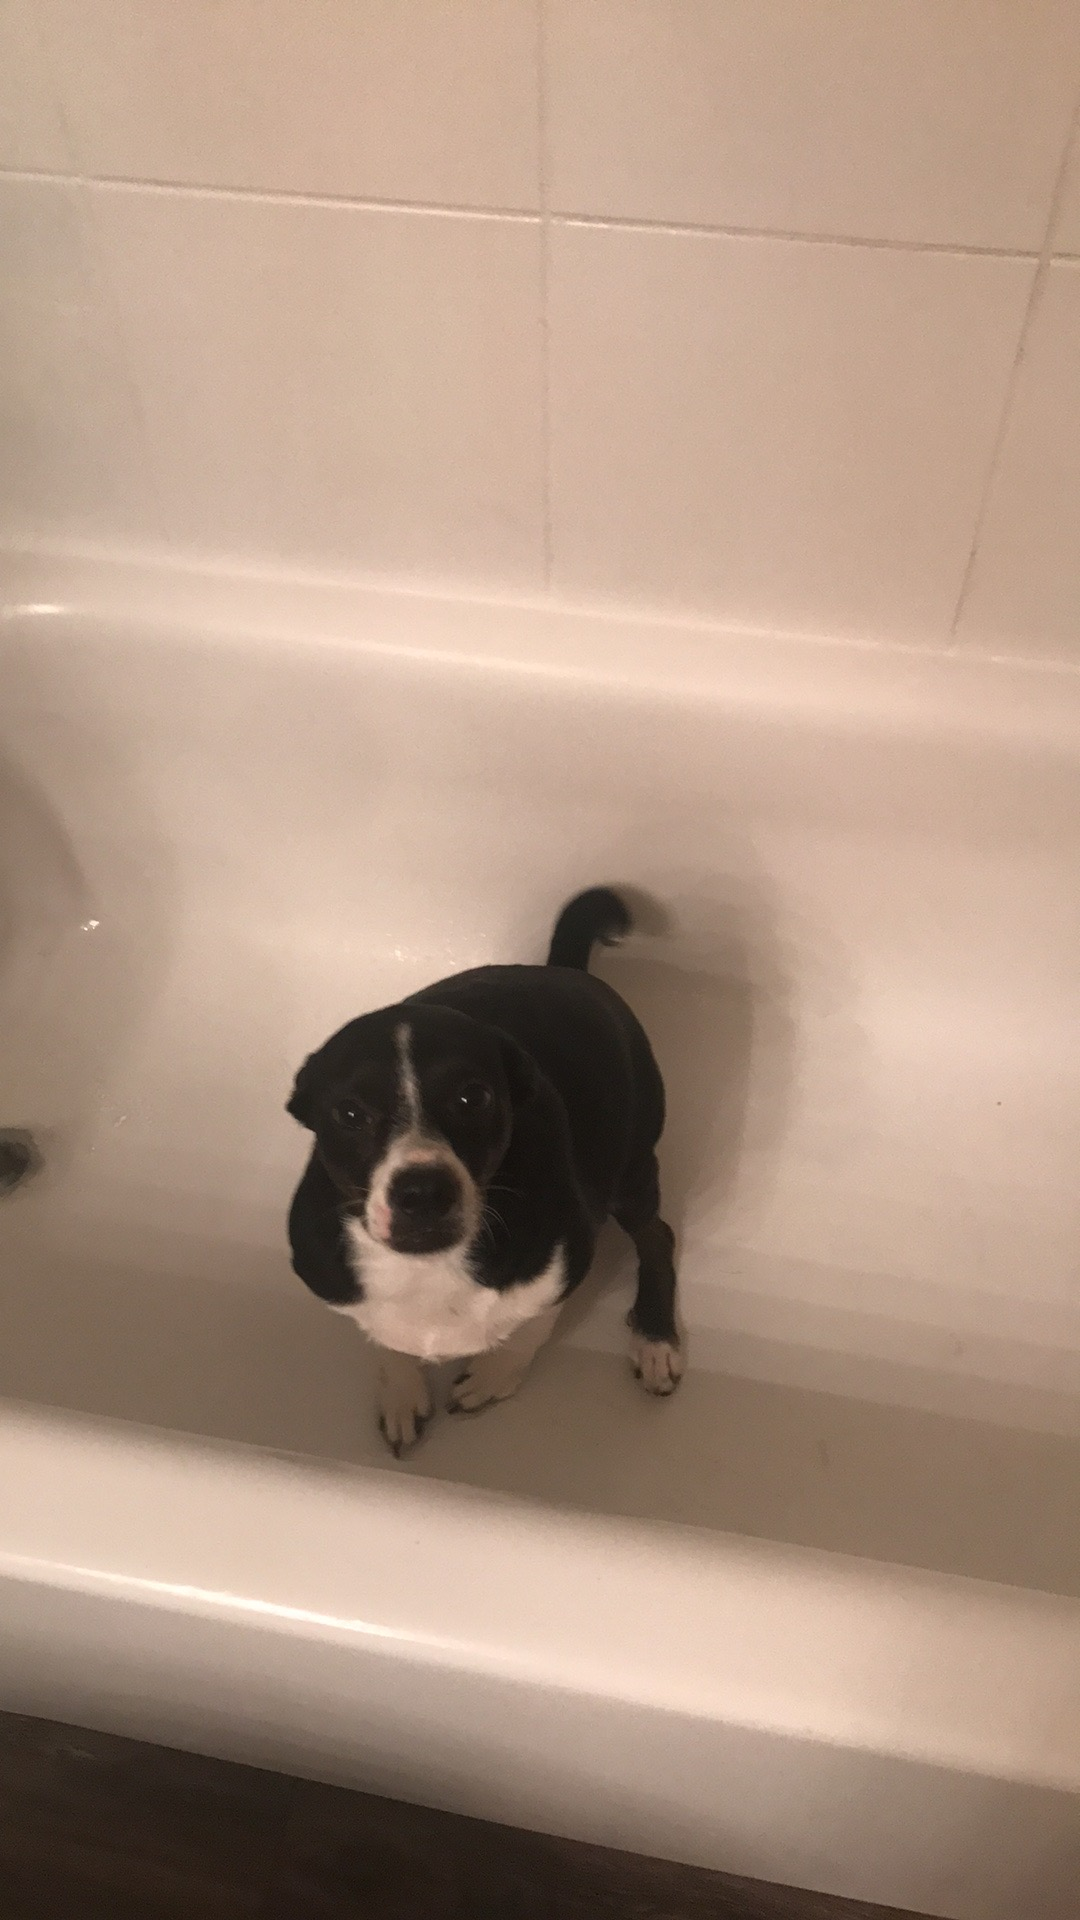Harley: (266, 858, 688, 1453)
